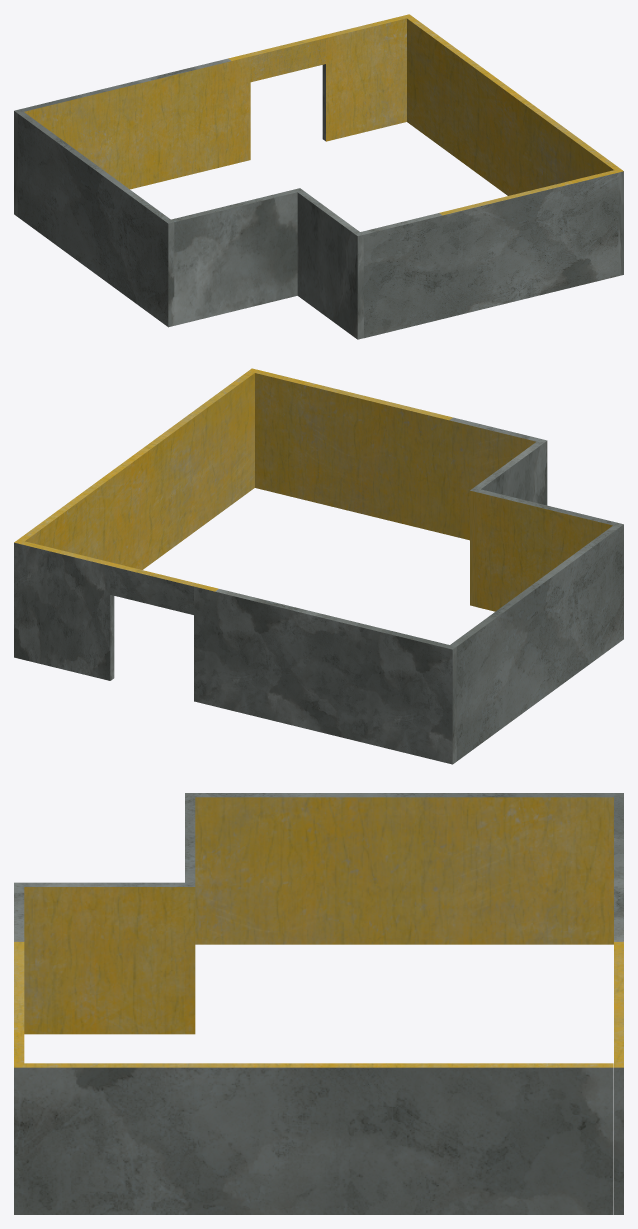
The model's file is Room.obj.
3 renders of one model, top to bottom at view 1: azimuth 30°, elevation 25°; view 2: azimuth 150°, elevation 25°; view 3: azimuth 270°, elevation 25°, orthographic. The views are drawn at different scales.
Parts seen in each view (by area): view 1: Cube.006; view 2: Cube.006; view 3: Cube.006.
Boxes of the visible parts, box(x1,y1,x2,y2) form: Cube.006: box(14, 14, 623, 339); Cube.006: box(14, 368, 623, 764); Cube.006: box(14, 793, 623, 1214).
Size of the model in its own units: 15.98 by 4 by 15.01.
